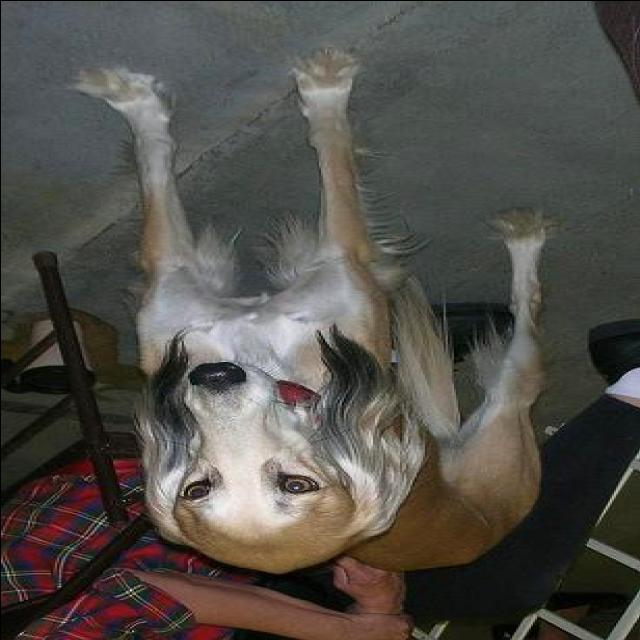saluki: (58, 58, 553, 576)
